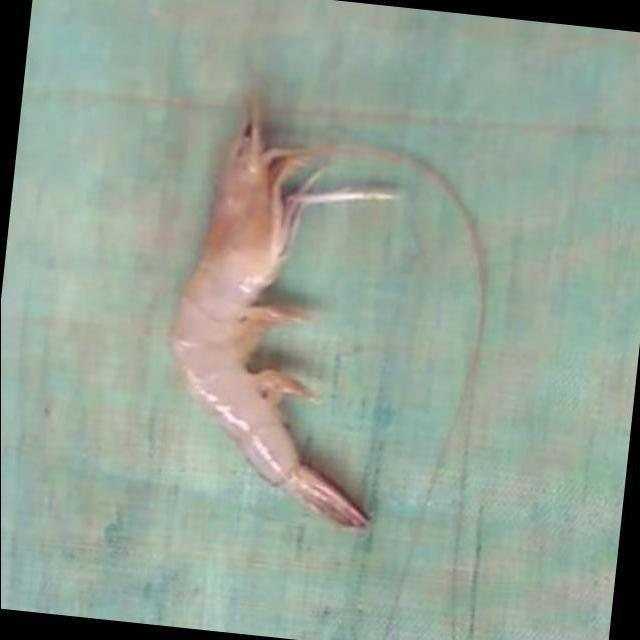shrimp: (171, 102, 397, 528)
